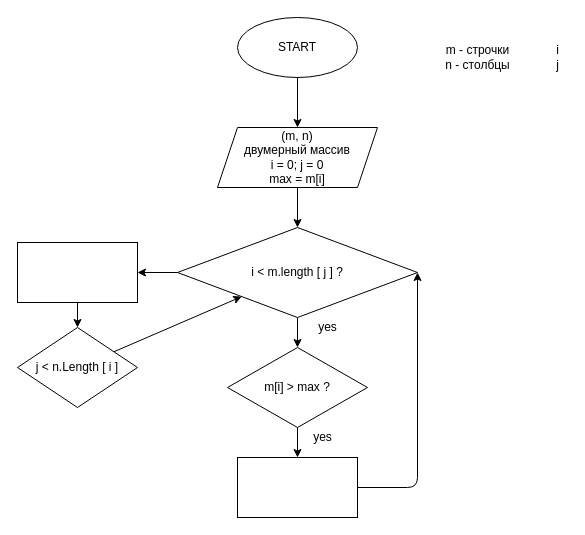
This 585x535 diagram has some shape labels left out. Here are the shapes that lost their labels. From the top down, the centre of each, then its label:
At (77,272): "j++ i = 0".
At (297,487): "max = m[i] i++".
